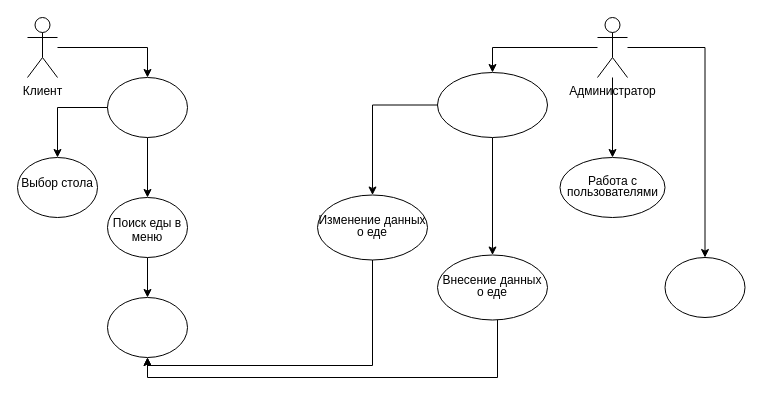
Some shapes in this 763 by 403 pixel diagram are drawn without their labels. Each missing label, with the centre of its shape:
Внесение данных в систему: [492,105]
Заказ еды: [147,107]
Оформление заказа: [147,327]
Работа с заказами: [704,287]
